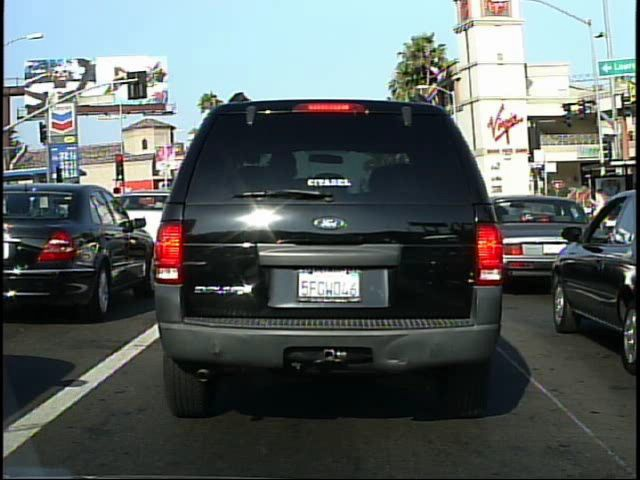person: (588, 184, 611, 241)
